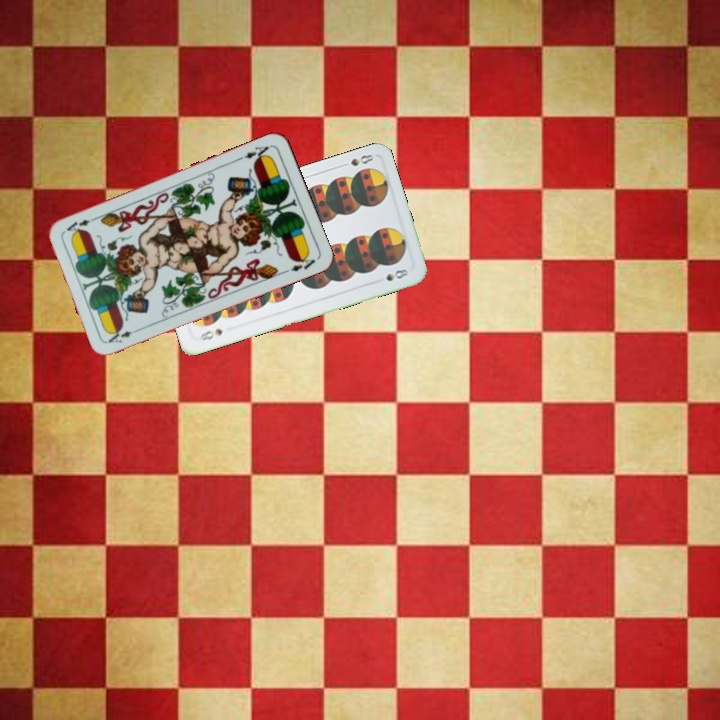EA: (234, 141, 273, 164), (104, 324, 143, 346)
S8: (336, 150, 376, 170), (197, 324, 225, 343)
